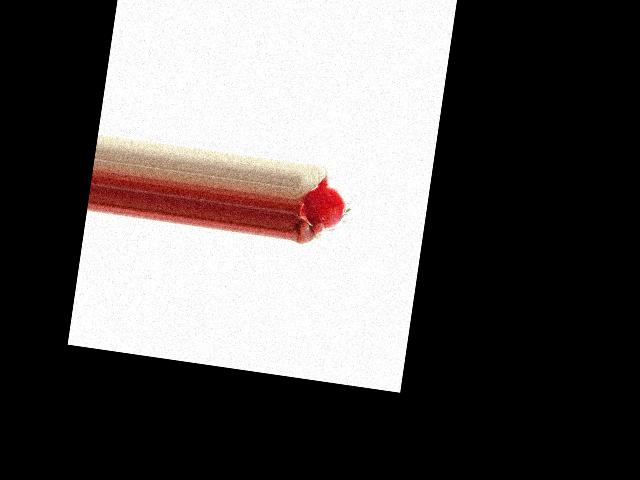tomato: (300, 183, 349, 233)
